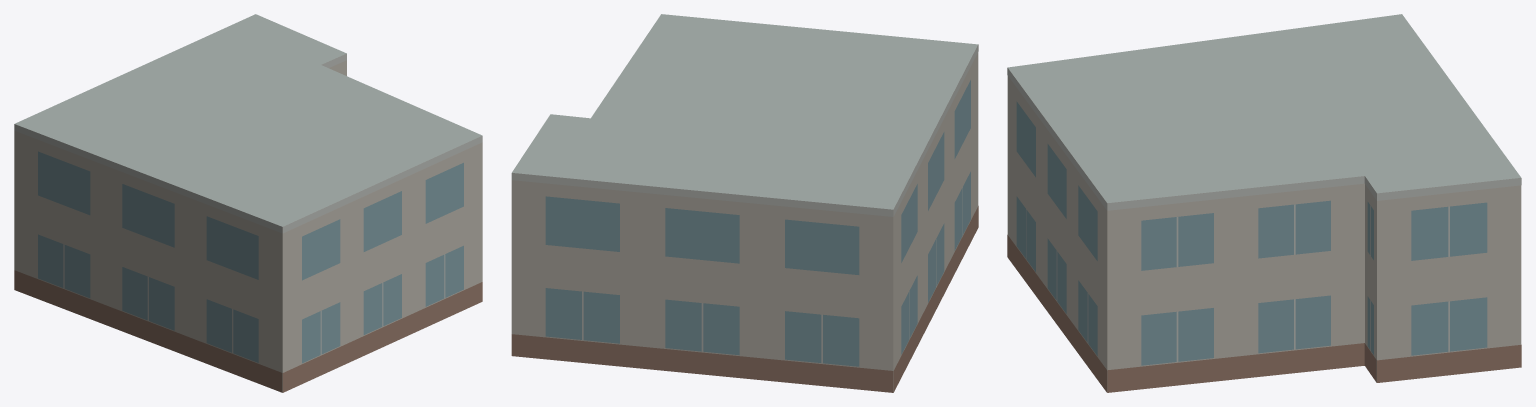
The model's file is survey-upis-32976035.glb.
3 renders of one model, left to right at view 1: azimuth 30°, elevation 25°; view 2: azimuth 150°, elevation 25°; view 3: azimuth 270°, elevation 25°, orthographic. The views are drawn at different scales.
Parts seen in each view (by area): view 1: survey-upis-32976035.tmp; view 2: survey-upis-32976035.tmp; view 3: survey-upis-32976035.tmp.
Boxes of the visible parts, x1,y1,x2,y2 form: survey-upis-32976035.tmp: [14, 14, 482, 392]; survey-upis-32976035.tmp: [511, 14, 978, 392]; survey-upis-32976035.tmp: [1007, 14, 1521, 392].
Bounding box in the file's own units: 13.06 × 6.1 × 15.
